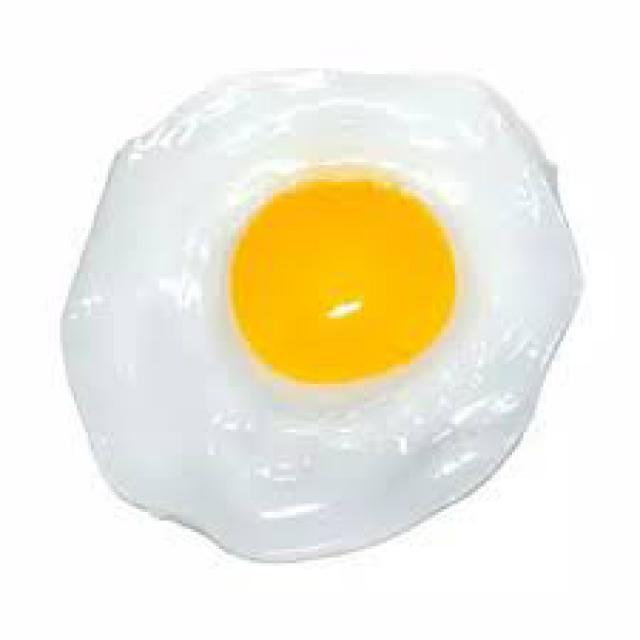Fried Egg: (60, 61, 580, 562)
